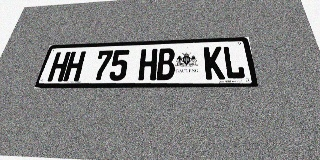5: (108, 50, 130, 81)
7: (91, 50, 113, 81)
B: (156, 48, 175, 80)
H: (47, 52, 71, 81), (63, 51, 86, 81), (138, 49, 158, 80)
K: (204, 46, 225, 79)
L: (222, 46, 246, 79)
